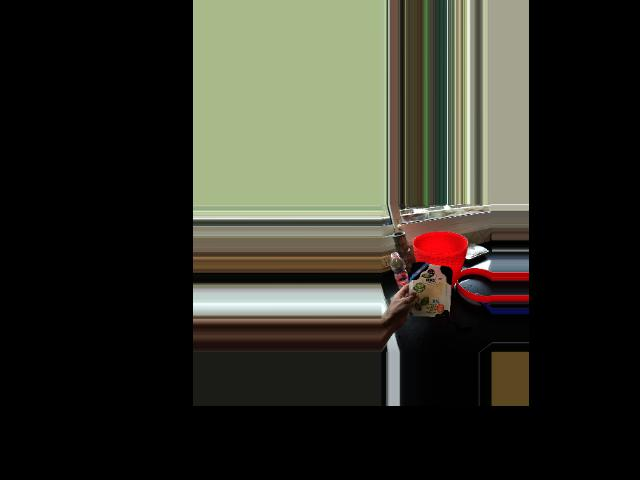cheese: (398, 261, 452, 313)
